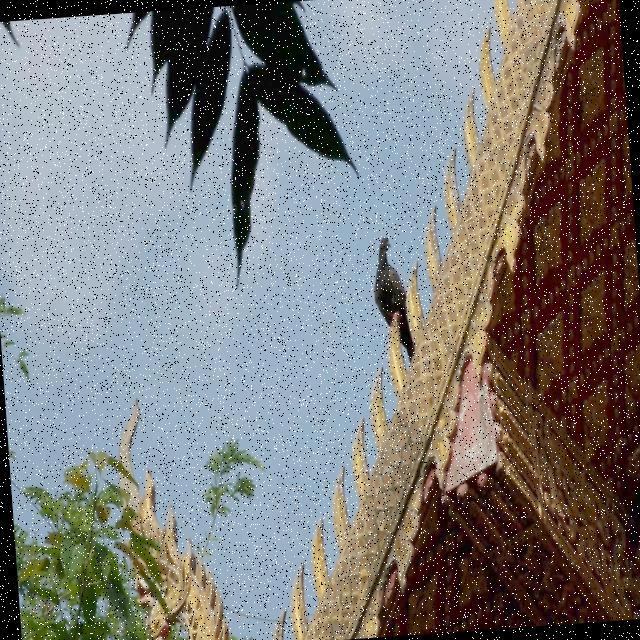bird: (169, 0, 640, 640), (123, 0, 367, 295), (368, 234, 416, 362), (402, 257, 428, 351), (0, 20, 21, 50)
